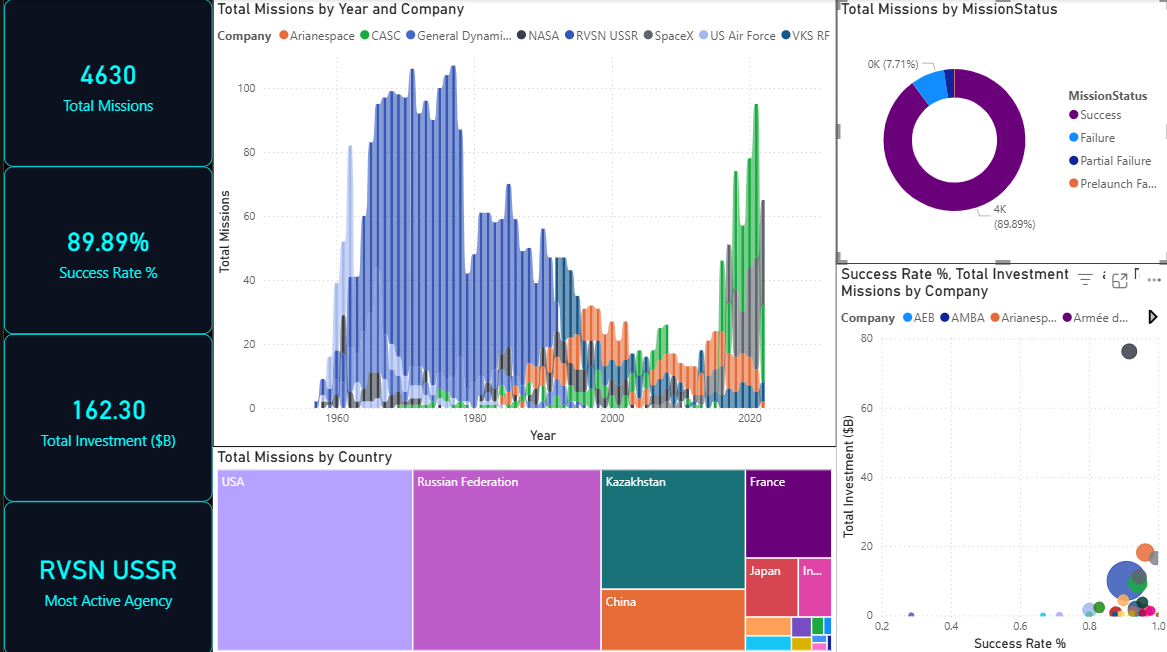

The page's visual inventory and layout, read from the dashboard file:
{"tool":"powerbi","page":{"name":"Page 1","canvas":[1280,720],"ordinal":0},"visuals":[{"type":"card","fields":{"Values":["space_missions_cleaned.Total Missions"]},"box":[0,0,229.2,183.9],"z":0},{"type":"card","fields":{"Values":["space_missions_cleaned.Success Rate %"]},"box":[0,183.9,229.2,183.9],"z":1000},{"type":"card","fields":{"Values":["space_missions_cleaned.Total Investment ($B)"]},"box":[0,367.8,229.2,183.9],"z":2000},{"type":"card","fields":{"Values":["space_missions_cleaned.Most Active Agency"]},"box":[0,551.6,229.2,168.8],"z":3000},{"type":"ribbonChart","fields":{"Category":["space_missions_cleaned.Year"],"Y":["space_missions_cleaned.Total Missions"],"Series":["space_missions_cleaned.Company"]},"box":[229.2,0,684.7,492.6],"z":4000},{"type":"treemap","fields":{"Group":["space_missions_cleaned.Country"],"Values":["space_missions_cleaned.Total Missions"]},"box":[229.2,492.6,684.7,227.8],"z":5000},{"type":"donutChart","fields":{"Category":["space_missions_cleaned.MissionStatus"],"Y":["space_missions_cleaned.Total Missions"]},"box":[913.9,0,366.4,290.9],"z":6000},{"type":"scatterChart","fields":{"X":["space_missions_cleaned.Success Rate %"],"Y":["space_missions_cleaned.Total Investment ($B)"],"Series":["space_missions_cleaned.Company"],"Size":["space_missions_cleaned.Total Missions"]},"box":[913.9,290.9,366.4,429.5],"z":7000}]}

Visuals, with their boxes in screenshot pixels (x1, y1, x2, y2), scaled from the page's 1280x720 canvas onto the 1167x652 screenshot:
card - space_missions_cleaned.Total Missions: <region>0, 0, 209, 167</region>
card - space_missions_cleaned.Success Rate %: <region>0, 167, 209, 333</region>
card - space_missions_cleaned.Total Investment ($B): <region>0, 333, 209, 500</region>
card - space_missions_cleaned.Most Active Agency: <region>0, 500, 209, 651</region>
ribbonChart - space_missions_cleaned.Year x space_missions_cleaned.Total Missions: <region>209, 0, 833, 446</region>
treemap - space_missions_cleaned.Country x space_missions_cleaned.Total Missions: <region>209, 446, 833, 651</region>
donutChart - space_missions_cleaned.MissionStatus x space_missions_cleaned.Total Missions: <region>833, 0, 1166, 263</region>
scatterChart - space_missions_cleaned.Success Rate % x space_missions_cleaned.Total Investment ($B): <region>833, 263, 1166, 651</region>
